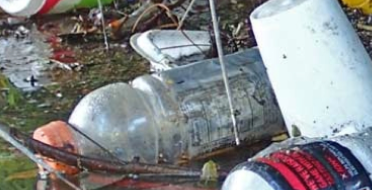garbage: (1, 1, 371, 189)
